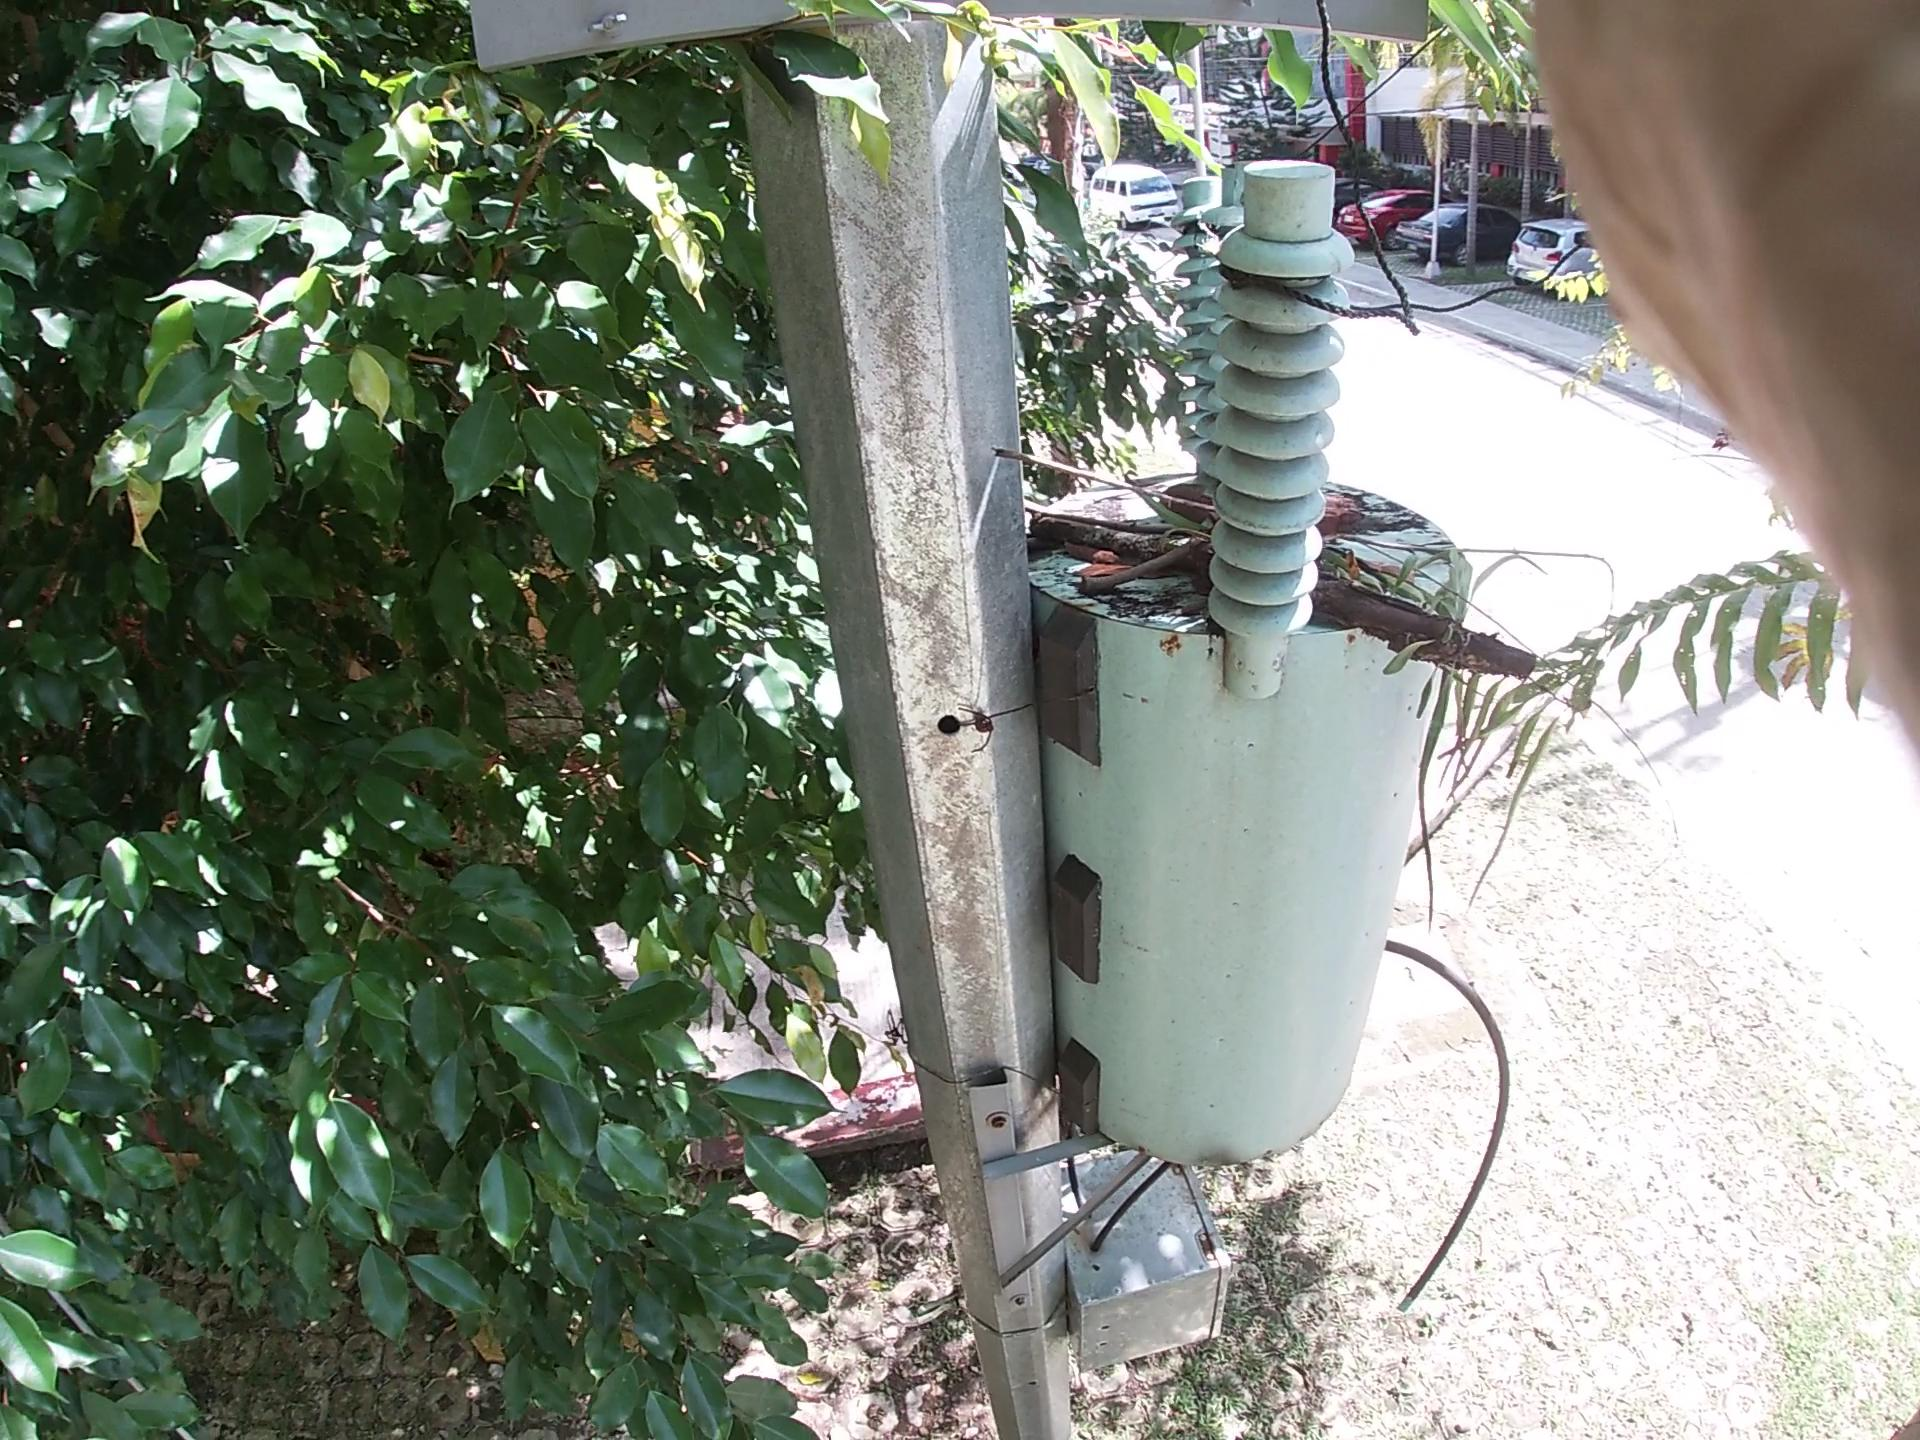branch with leaves: (1085, 526, 1841, 749)
leaf: (1072, 510, 1144, 593)
mahogany fruit: (1154, 452, 1411, 532)
tree branch: (1019, 449, 1482, 563), (1076, 557, 1217, 613)
